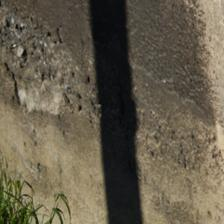Crack: (2, 31, 69, 92)
